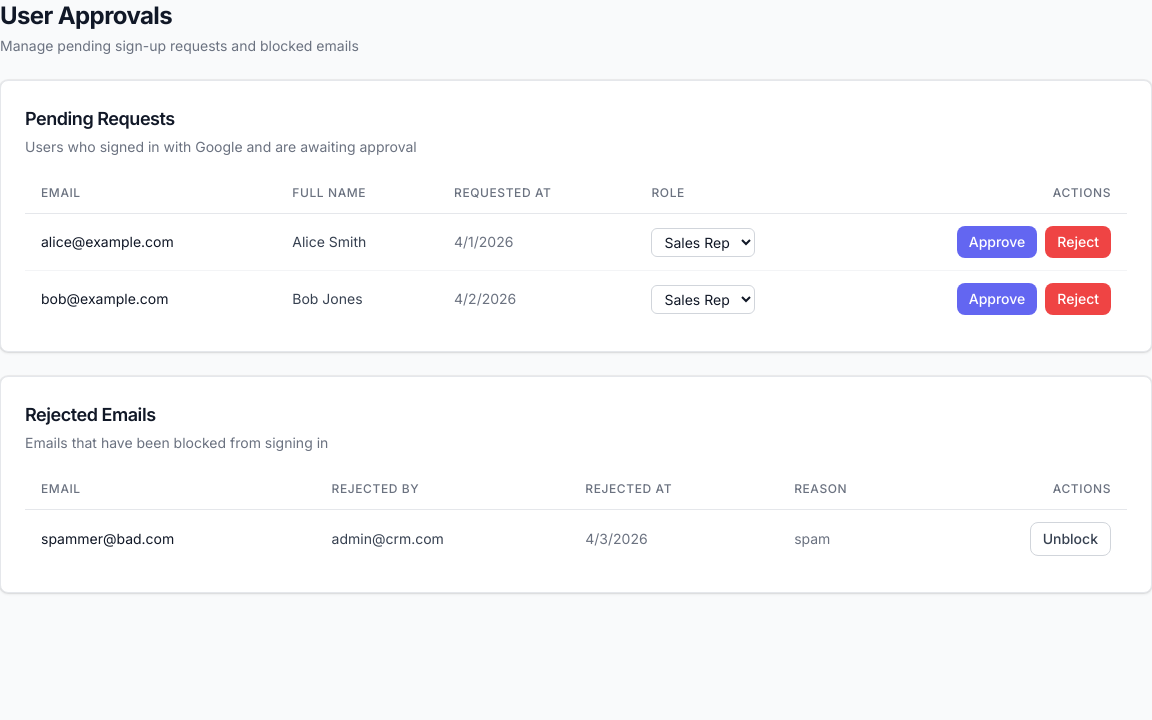
UserApprovalsPage › opens reject modal when Reject is clicked
Expected: the text "alice@example.com" is shown, left=25, top=214, right=276, bottom=270
Click the button "Reject" in the row of "alice@example.com" at {"x": 1078, "y": 242}, box left=1045, top=226, right=1111, bottom=258
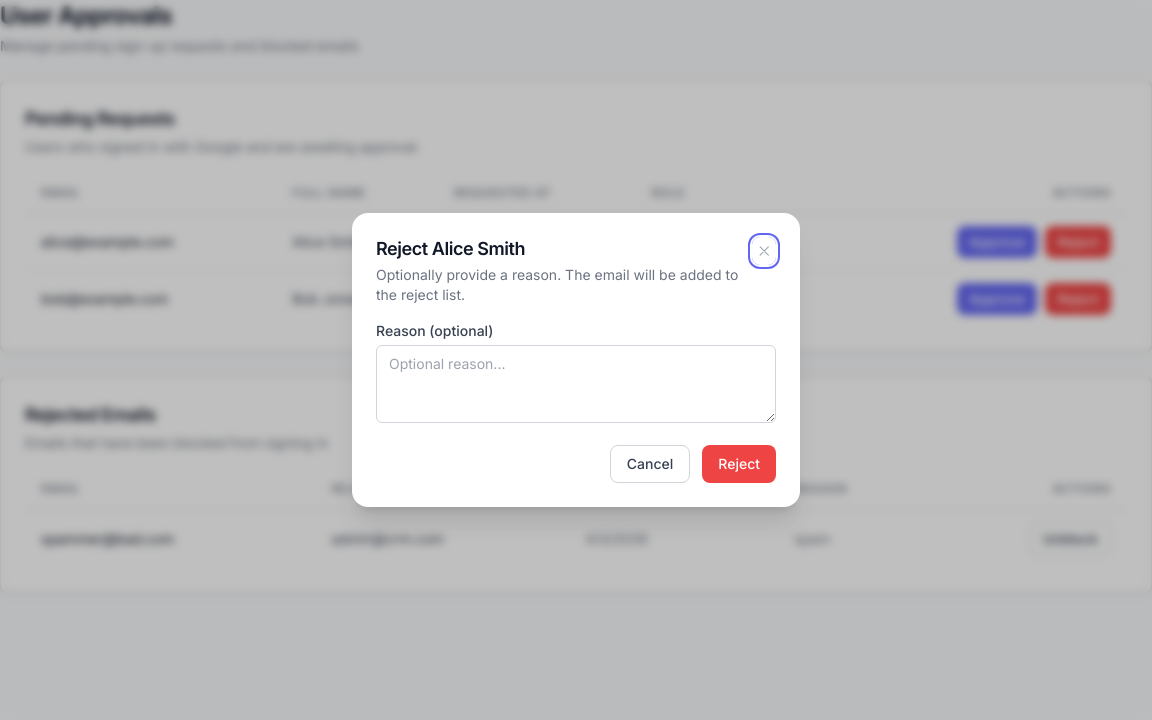
Expected: the heading "Reject Alice Smith" is shown, left=376, top=238, right=525, bottom=259
